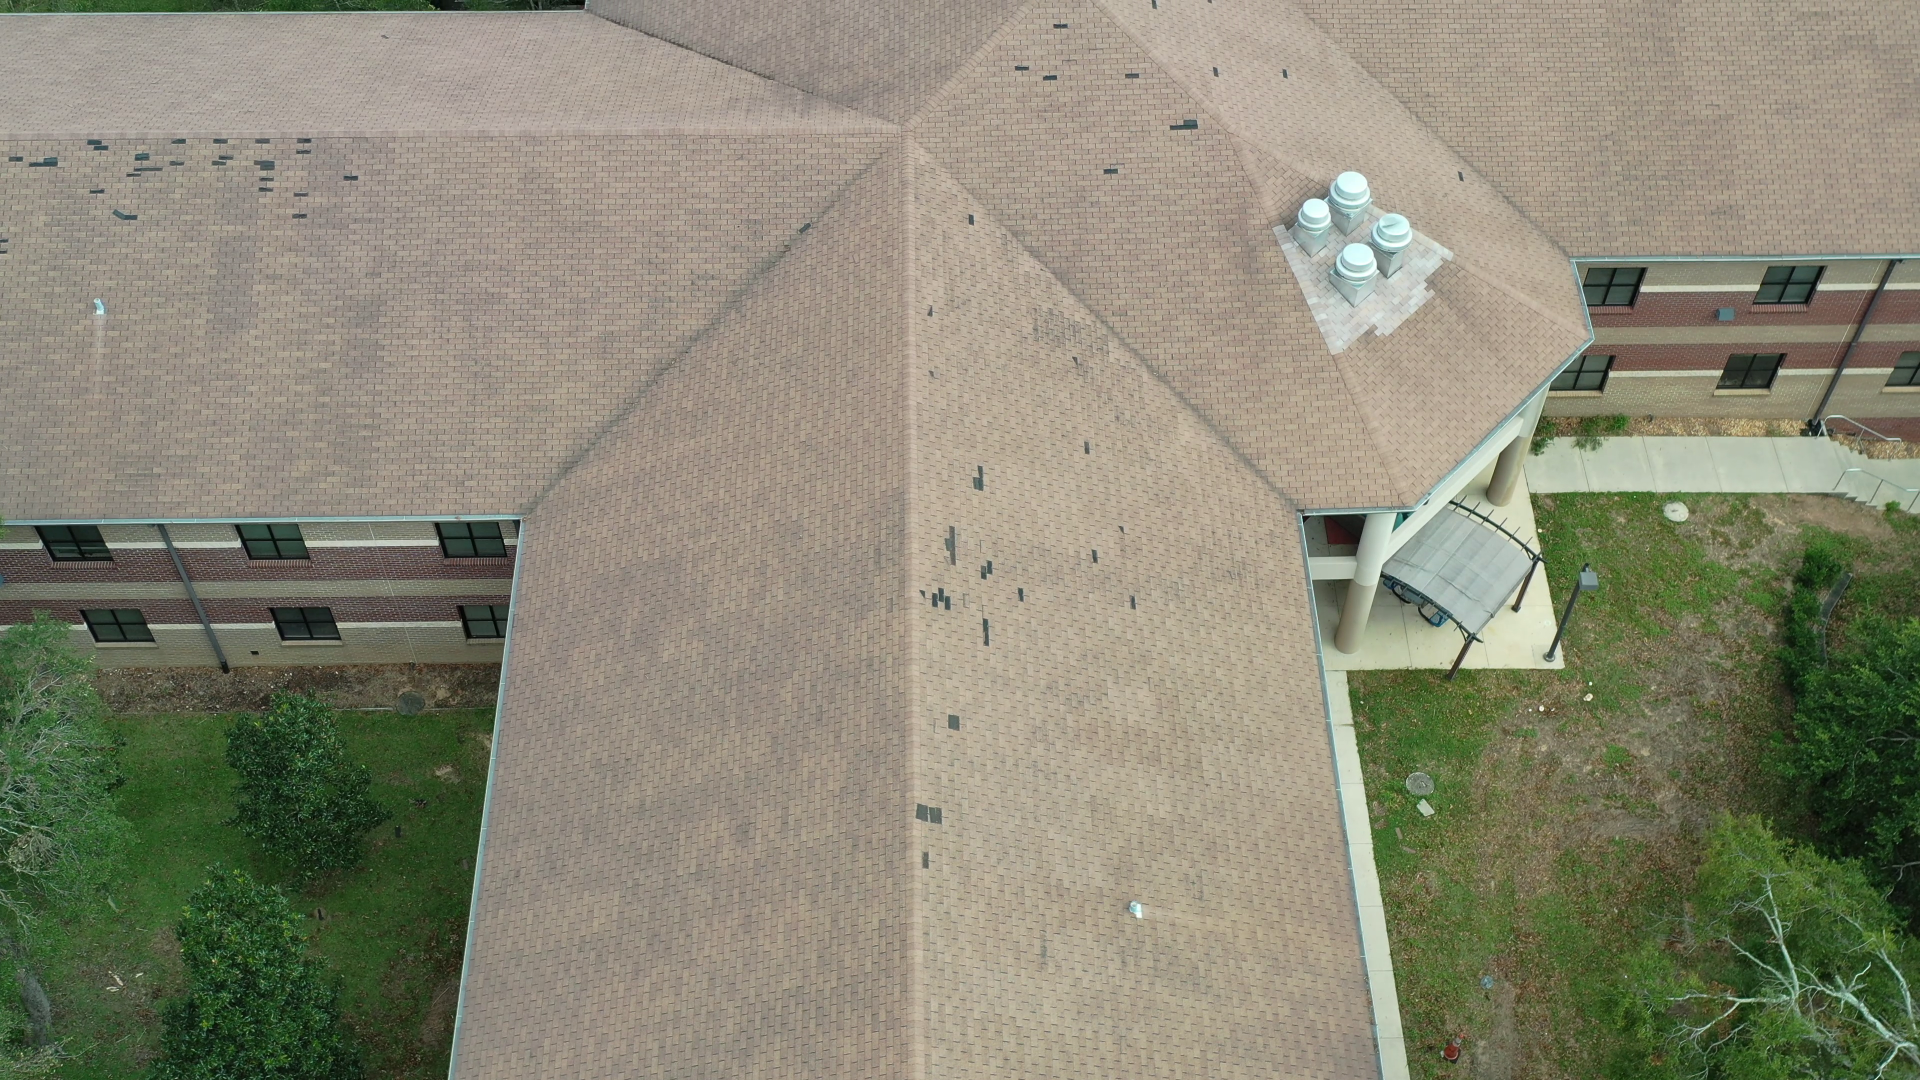Light: (7, 136, 360, 222), (919, 525, 1025, 647), (1091, 525, 1138, 611), (915, 802, 944, 870), (1013, 65, 1059, 83), (945, 711, 961, 733), (1167, 120, 1200, 131), (972, 465, 985, 492), (1052, 22, 1069, 32), (1101, 167, 1120, 175), (1124, 71, 1139, 80), (1083, 439, 1091, 456), (967, 212, 976, 227), (1211, 65, 1220, 79), (1280, 67, 1288, 79)
